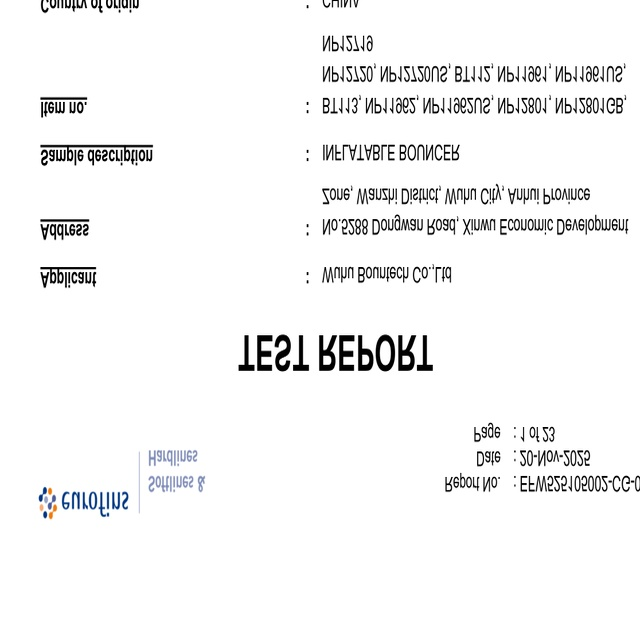eurofins: (37, 485, 132, 524)
